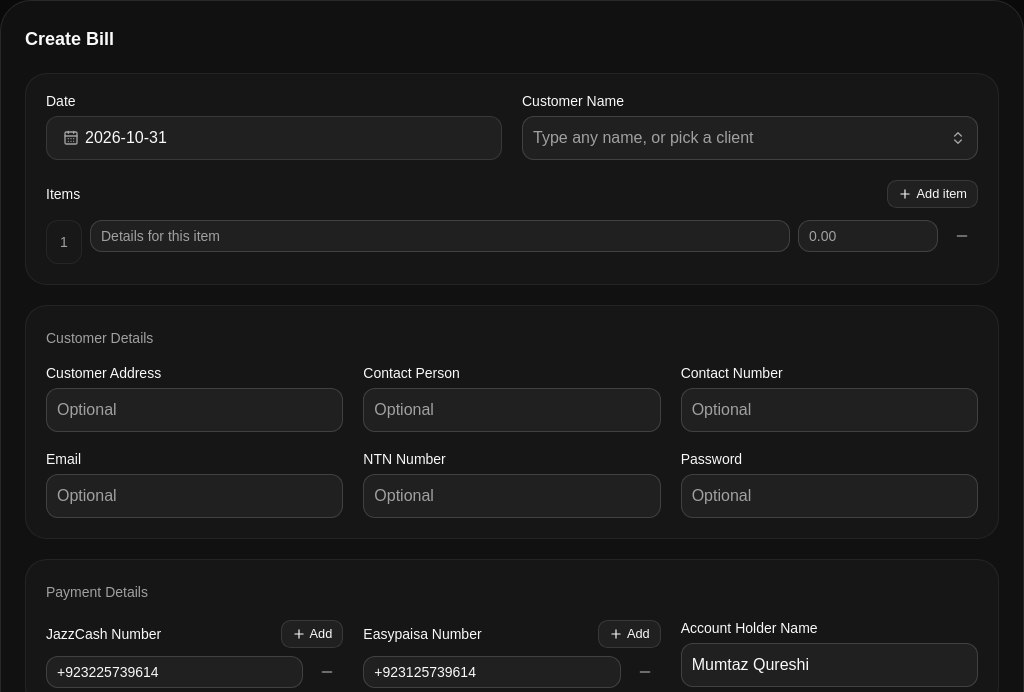
Test: CreateBillForm › adds another item with the next item number
Click the button "Add item": (933, 194) x1=888 y1=180 x2=978 y2=208
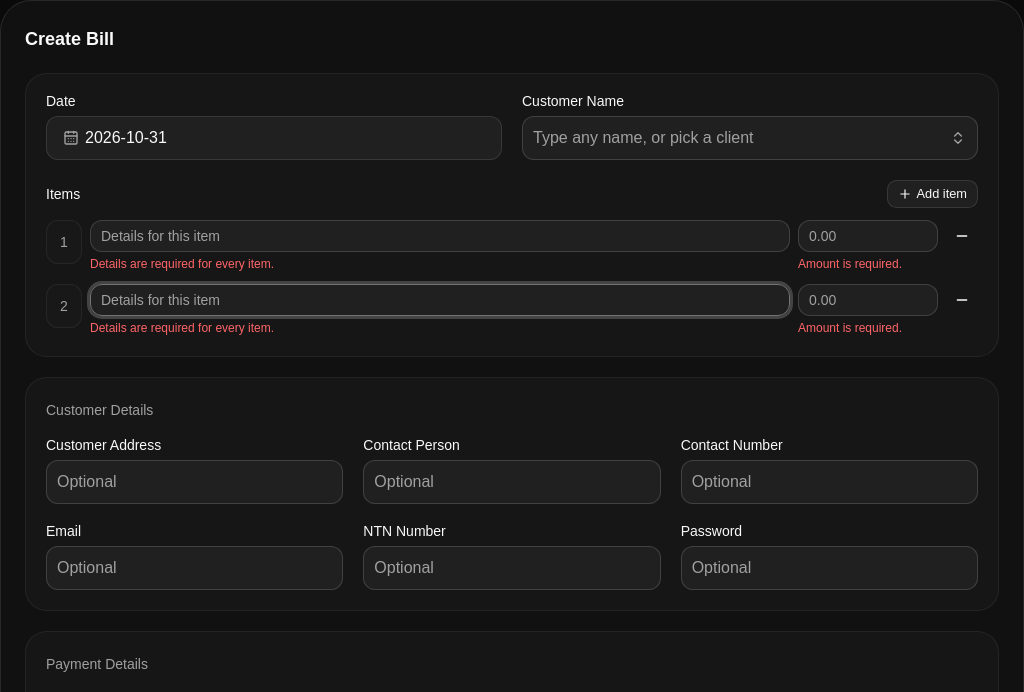
Result: the field named "Details for item 2" is shown at x1=90 y1=284 x2=790 y2=316
Result: the field named "Amount for item 2" is shown at x1=798 y1=284 x2=938 y2=316
